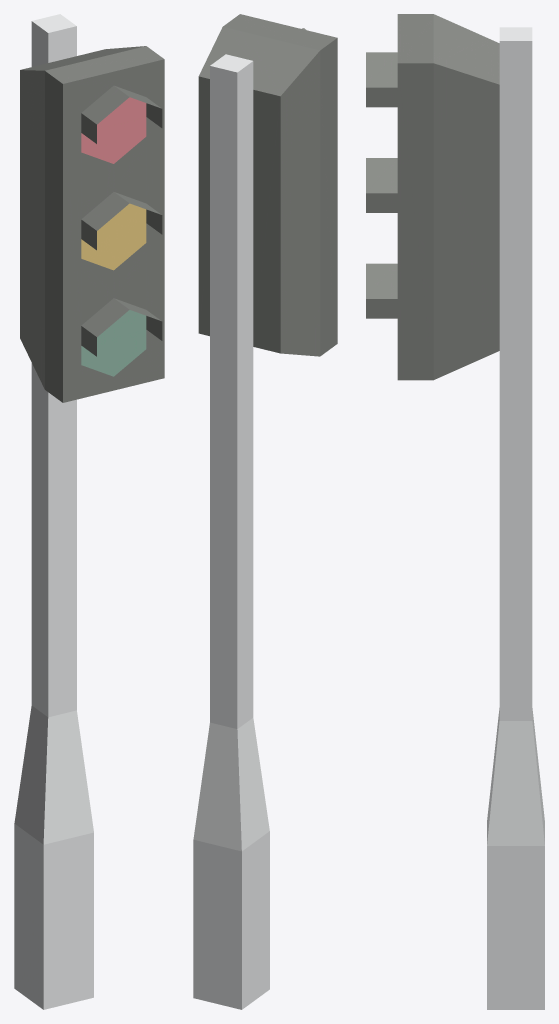
File: lightColored.glb
The picture shows the model from 3 angles, left to right: view 1: azimuth 30°, elevation 25°; view 2: azimuth 150°, elevation 25°; view 3: azimuth 270°, elevation 25°; orthographic projection. The views are drawn at different scales.
Parts seen in each view (by area): view 1: lightColored(Clone); view 2: lightColored(Clone); view 3: lightColored(Clone).
Boxes of the visible parts, x1=… form: lightColored(Clone): x1=14, y1=14, x2=164, y2=1009; lightColored(Clone): x1=193, y1=14, x2=337, y2=1009; lightColored(Clone): x1=366, y1=14, x2=544, y2=1009.
Bounding box in the file's own units: 0.0708 × 0.6457 × 0.1087.
2 materials, 2 textured.
